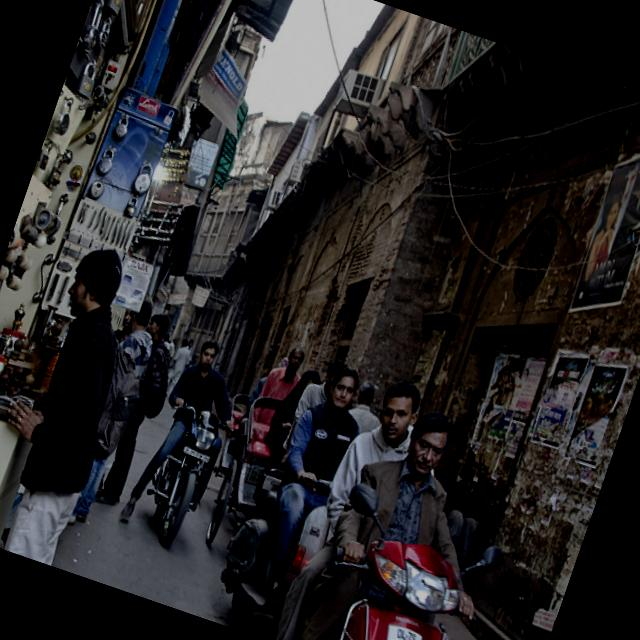Vehicle: (296, 479, 507, 640), (202, 454, 348, 636), (136, 402, 244, 552)
